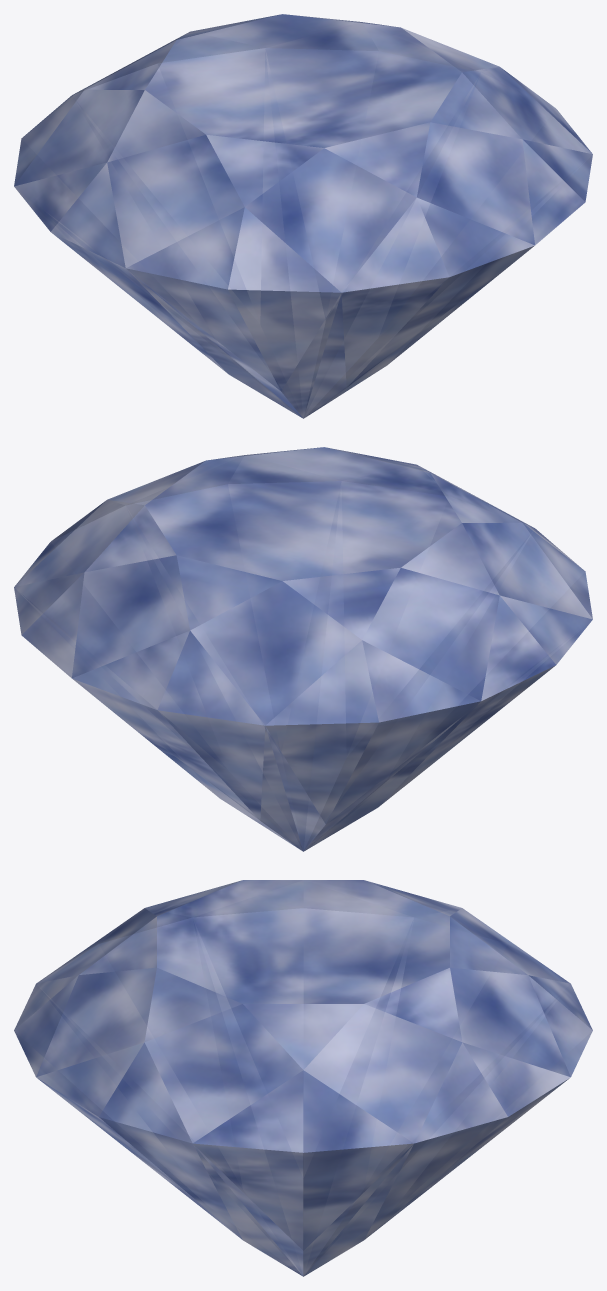
Rendered from Brillant.dae.
3 views of the same model, one above another, from view 1: azimuth 30°, elevation 25°; view 2: azimuth 150°, elevation 25°; view 3: azimuth 270°, elevation 25° (orthographic).
Visible parts, largest first — view 1: SketchUp; view 2: SketchUp; view 3: SketchUp.
Part boxes in pixels (x1,y1,x2,y2): SketchUp: [14, 14, 592, 418]; SketchUp: [14, 447, 592, 851]; SketchUp: [14, 880, 592, 1276].
Size of the model in its own units: 136 by 136 by 86.9.
1 material, 1 textured.
